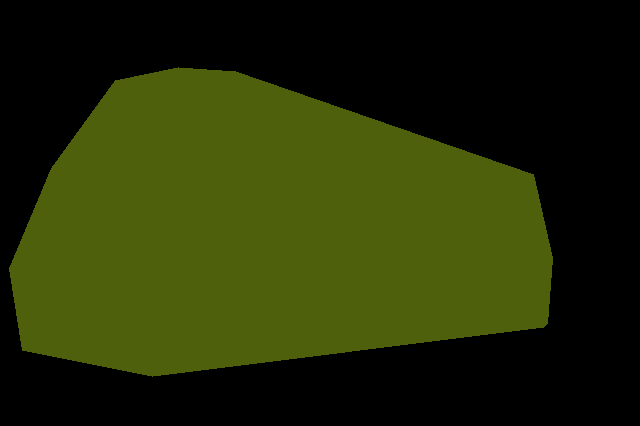Train: (9, 67, 552, 376)
